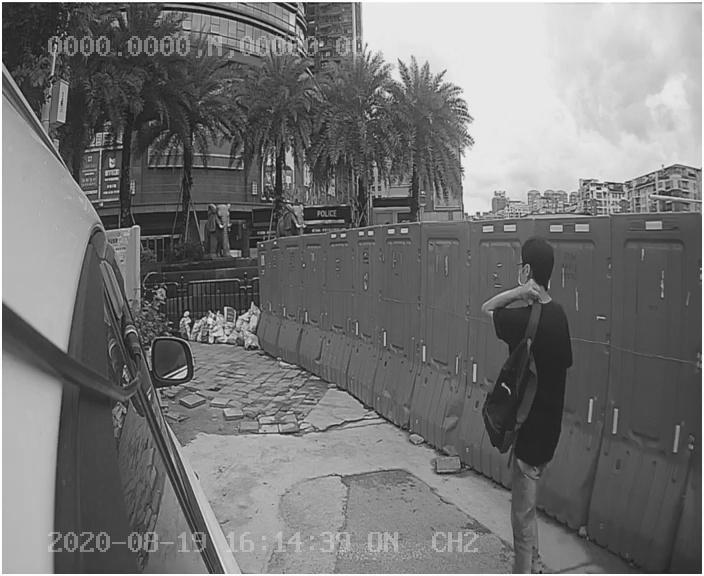person: (474, 231, 590, 568)
